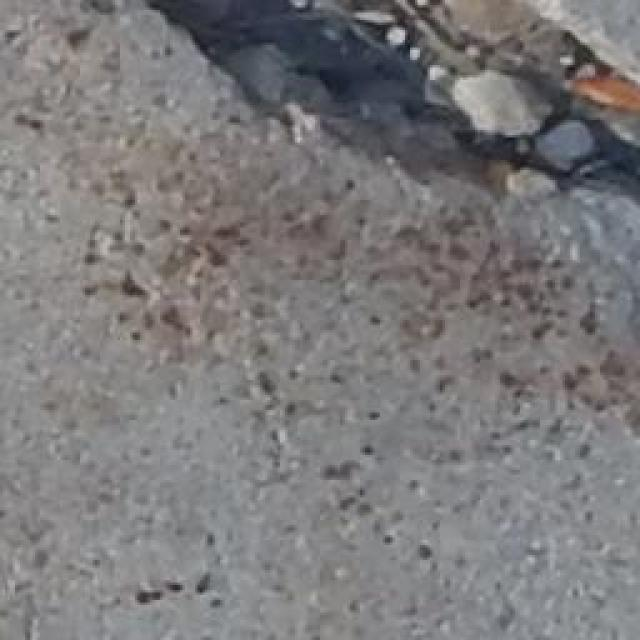concrete-crack: (119, 0, 639, 216)
